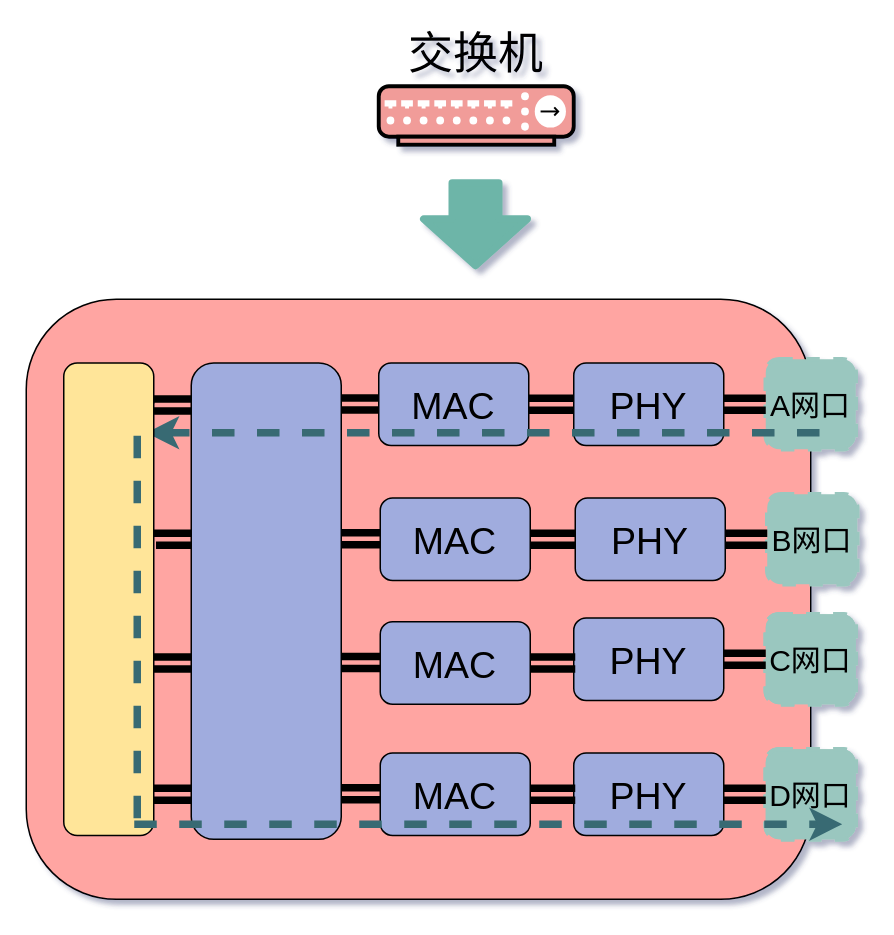
The diagram is 894 pixels wide and 935 high, and some of its shapes have lost their labels. The shapes that lost their labels are listed below. From the top down, each one's box as (x1, y1, x2, y2) in pixels, then its label:
(62, 362, 154, 836): 交换电路
(190, 362, 341, 839): 内存
